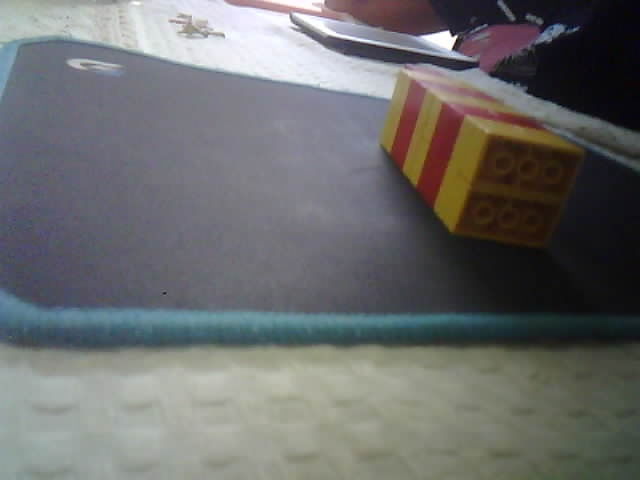lego: (375, 62, 585, 253)
